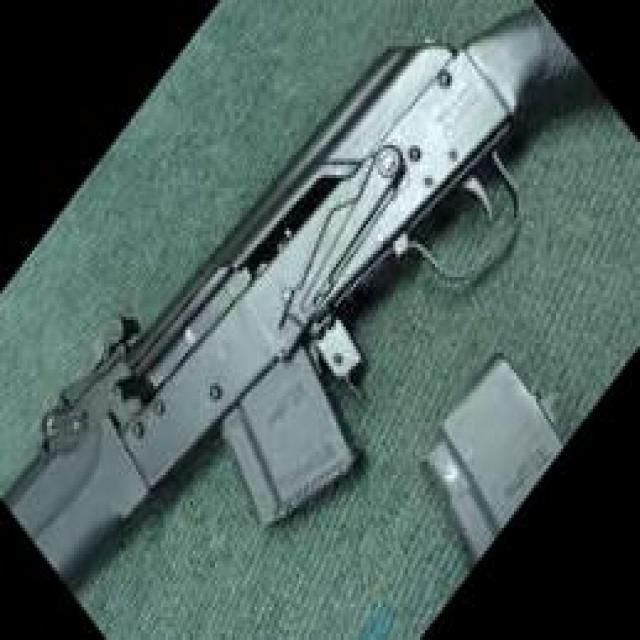weapon: (0, 3, 600, 600)
